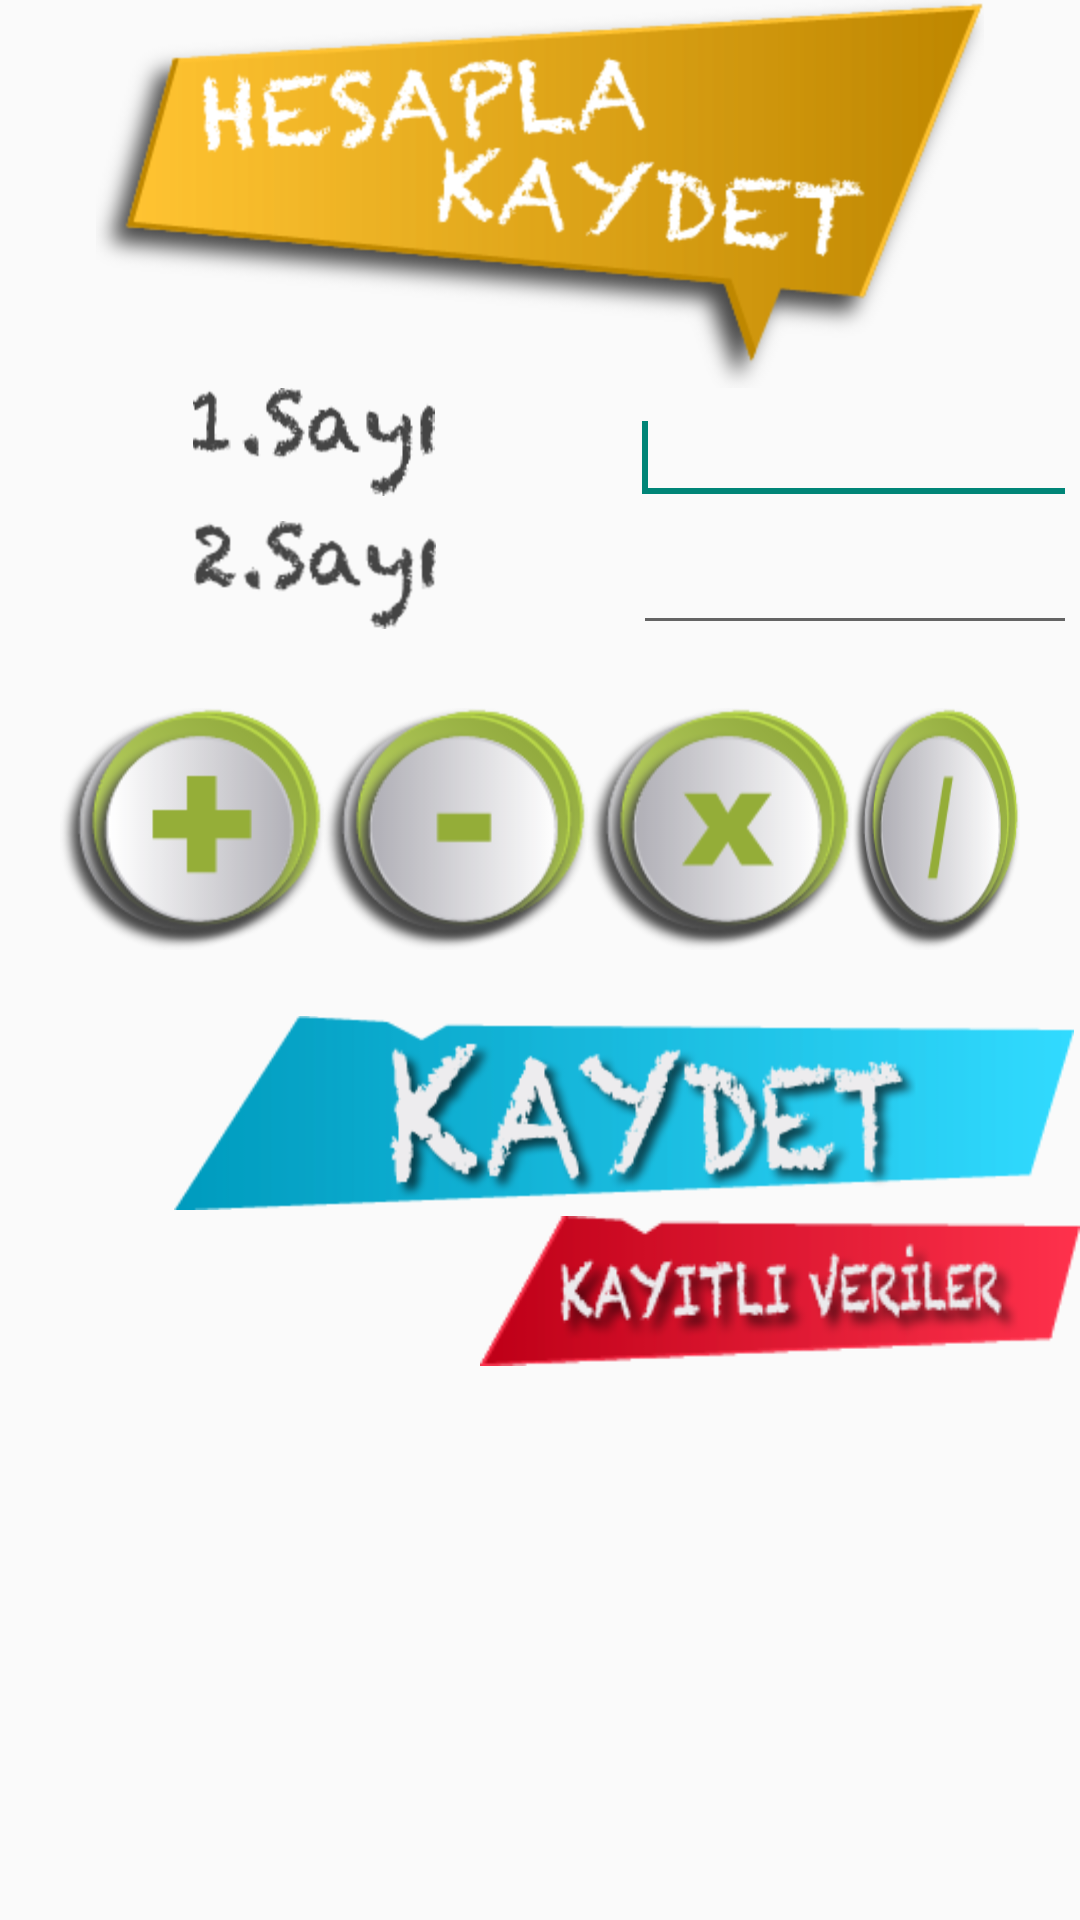

Named icons in this screenshot (1080w x 1920h) and their centers, (x=x, y=y):
bolbuton: (x=936, y=827)
carpbuton: (x=721, y=827)
cikarbuton: (x=457, y=827)
toplabuton: (x=193, y=827)
